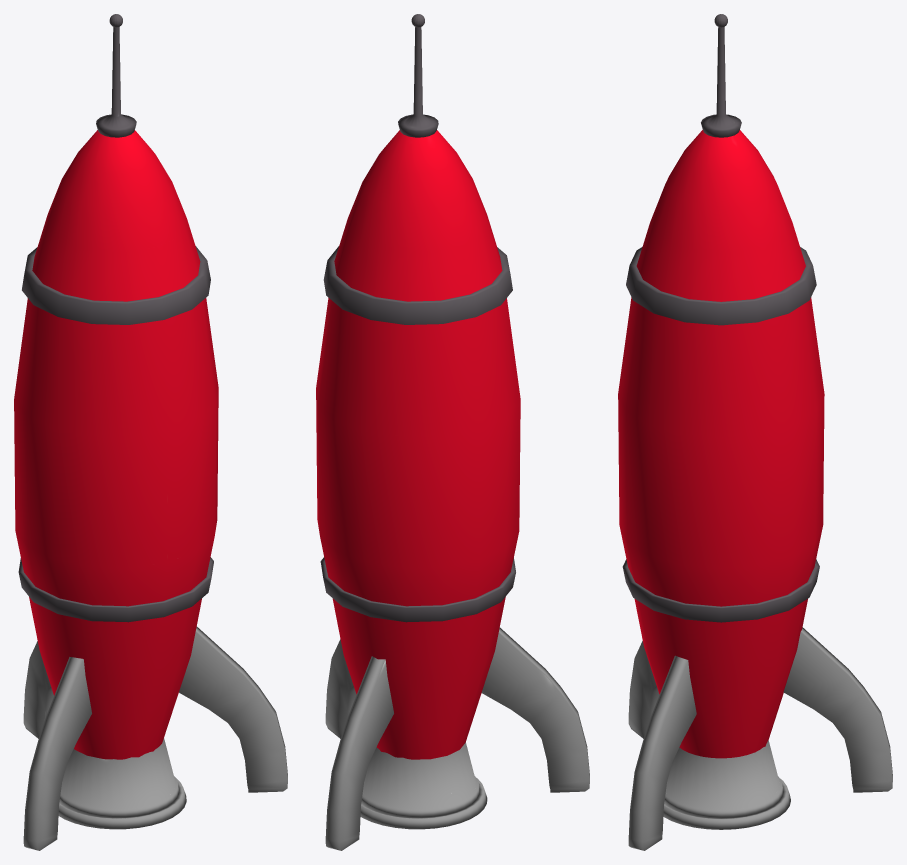
File: rocket4.fbx
3 views of the same model, side by side, from view 1: azimuth 30°, elevation 25°; view 2: azimuth 150°, elevation 25°; view 3: azimuth 270°, elevation 25° (orthographic).
Visible parts, largest first — view 1: Mesh_body, Mesh Rocket engine, Mesh fin.001, Mesh fin, Mesh fin.002, Mesh stabliser; view 2: Mesh_body, Mesh Rocket engine, Mesh fin, Mesh fin.002, Mesh fin.001, Mesh stabliser; view 3: Mesh_body, Mesh Rocket engine, Mesh fin.002, Mesh fin.001, Mesh fin, Mesh stabliser.
Part boxes in pixels (x1=…): Mesh_body: x1=14, y1=130, x2=218, y2=759; Mesh Rocket engine: x1=58, y1=738, x2=186, y2=829; Mesh fin.001: x1=179, y1=626, x2=287, y2=792; Mesh fin: x1=23, y1=657, x2=91, y2=850; Mesh fin.002: x1=23, y1=641, x2=53, y2=738; Mesh stabliser: x1=96, y1=27, x2=136, y2=137; Mesh_body: x1=316, y1=130, x2=520, y2=759; Mesh Rocket engine: x1=360, y1=742, x2=487, y2=829; Mesh fin: x1=481, y1=627, x2=589, y2=792; Mesh fin.002: x1=325, y1=656, x2=393, y2=850; Mesh fin.001: x1=325, y1=639, x2=356, y2=738; Mesh stabliser: x1=398, y1=27, x2=438, y2=137; Mesh_body: x1=618, y1=130, x2=824, y2=758; Mesh Rocket engine: x1=663, y1=740, x2=790, y2=829; Mesh fin.002: x1=783, y1=627, x2=892, y2=792; Mesh fin.001: x1=628, y1=655, x2=696, y2=850; Mesh fin: x1=628, y1=641, x2=659, y2=738; Mesh stabliser: x1=701, y1=27, x2=741, y2=137.
Size of the model in its own units: 314 by 893 by 283.
